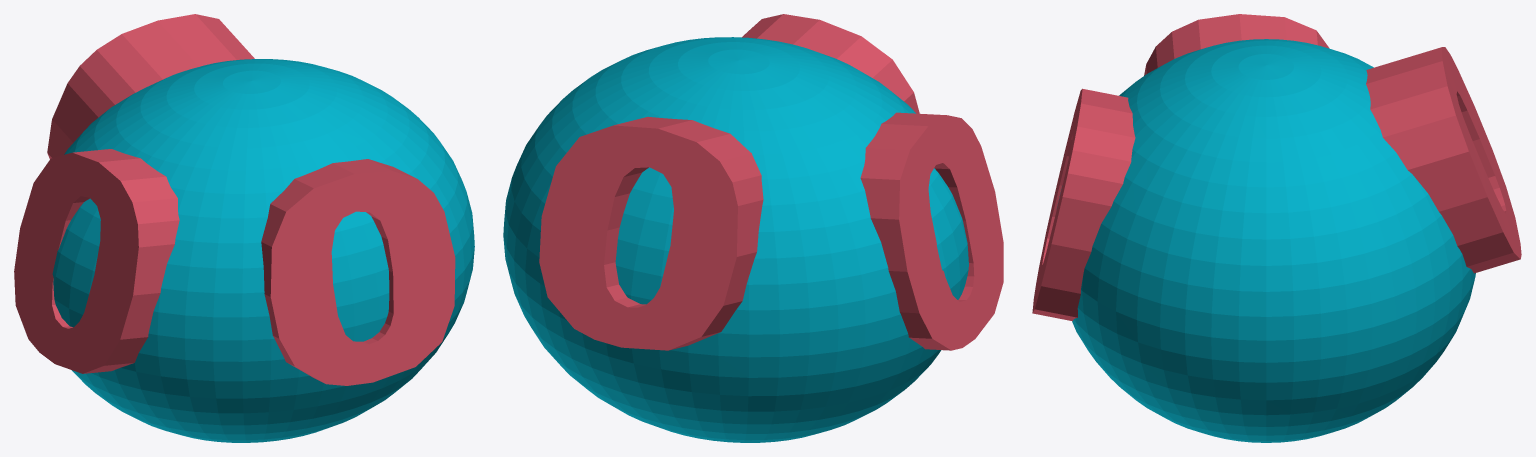
File: number0.glb
3 views of the same model, side by side, from view 1: azimuth 30°, elevation 25°; view 2: azimuth 150°, elevation 25°; view 3: azimuth 270°, elevation 25° (orthographic). The views are drawn at different scales.
Visible parts, largest first — view 1: Mesh_Mesh_head_geo.001_lambert2SG.001; view 2: Mesh_Mesh_head_geo.001_lambert2SG.001; view 3: Mesh_Mesh_head_geo.001_lambert2SG.001.
Part boxes in pixels (left/top/right/bottom): Mesh_Mesh_head_geo.001_lambert2SG.001: left=14, top=14, right=474, bottom=442; Mesh_Mesh_head_geo.001_lambert2SG.001: left=503, top=14, right=1003, bottom=442; Mesh_Mesh_head_geo.001_lambert2SG.001: left=1032, top=14, right=1521, bottom=442.
Bounding box in the file's own units: 0.101 × 0.08 × 0.101.
